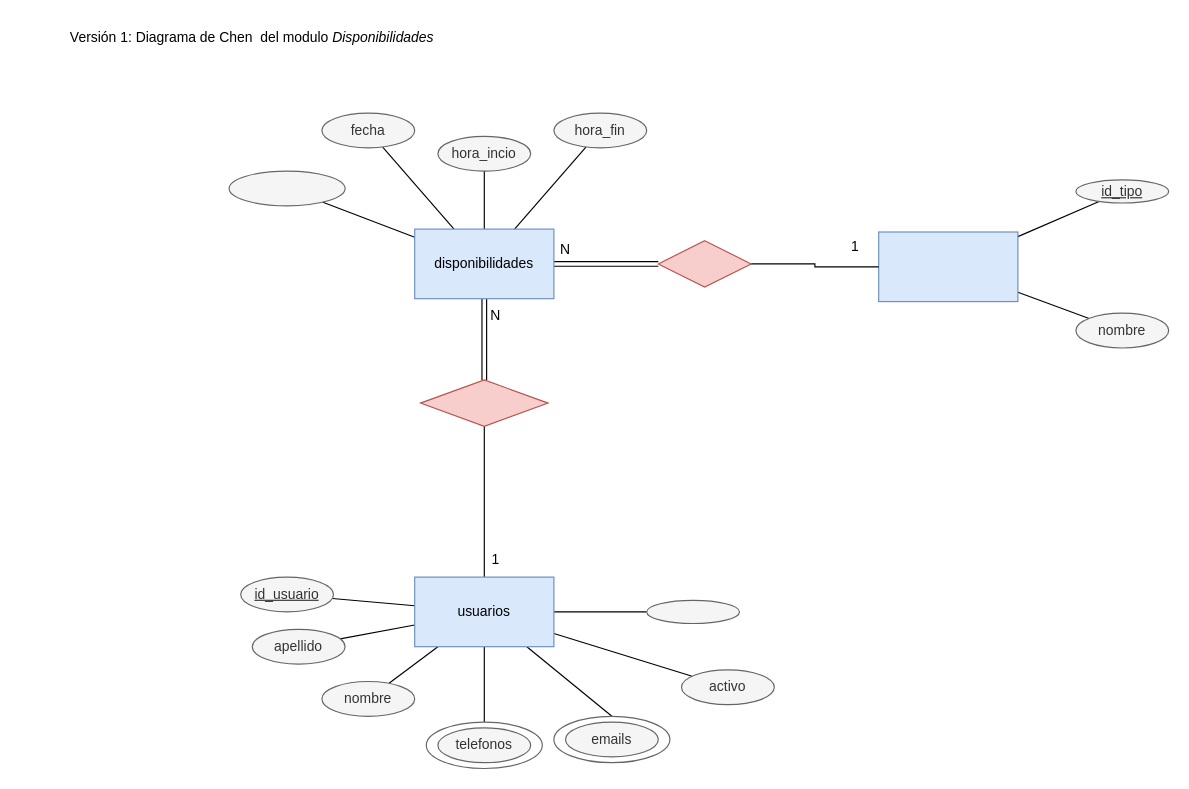
Image size: 1189x789. Some labels were removed from this diagram. Each missing label, with the box of its shape:
fecha_activo: (646, 599, 740, 624)
id_disponibilidad: (228, 170, 345, 206)
POSEE: (419, 379, 548, 426)
TIENE: (657, 240, 751, 287)
tipos_disponibilidad: (878, 231, 1018, 302)
